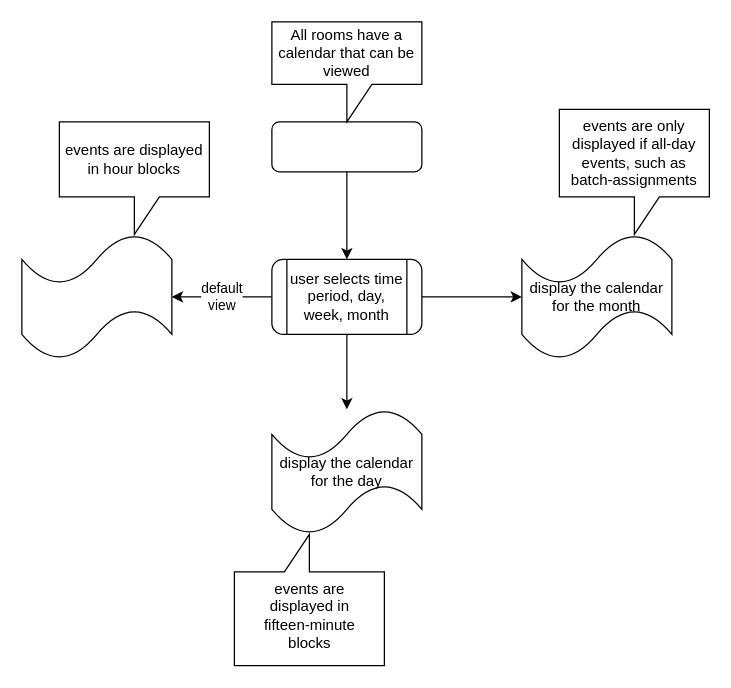
This 731x688 diagram has some shape labels left out. Each missing label, with the centre of its shape:
"display the calendar for the week" belongs at (96,296).
"User open's a room's calendar" belongs at (346,146).
